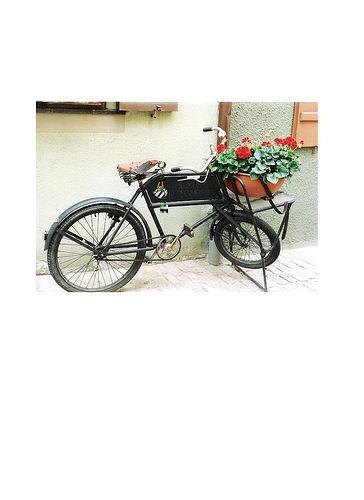car: (46, 123, 282, 296)
pottedplant: (206, 138, 305, 199)
